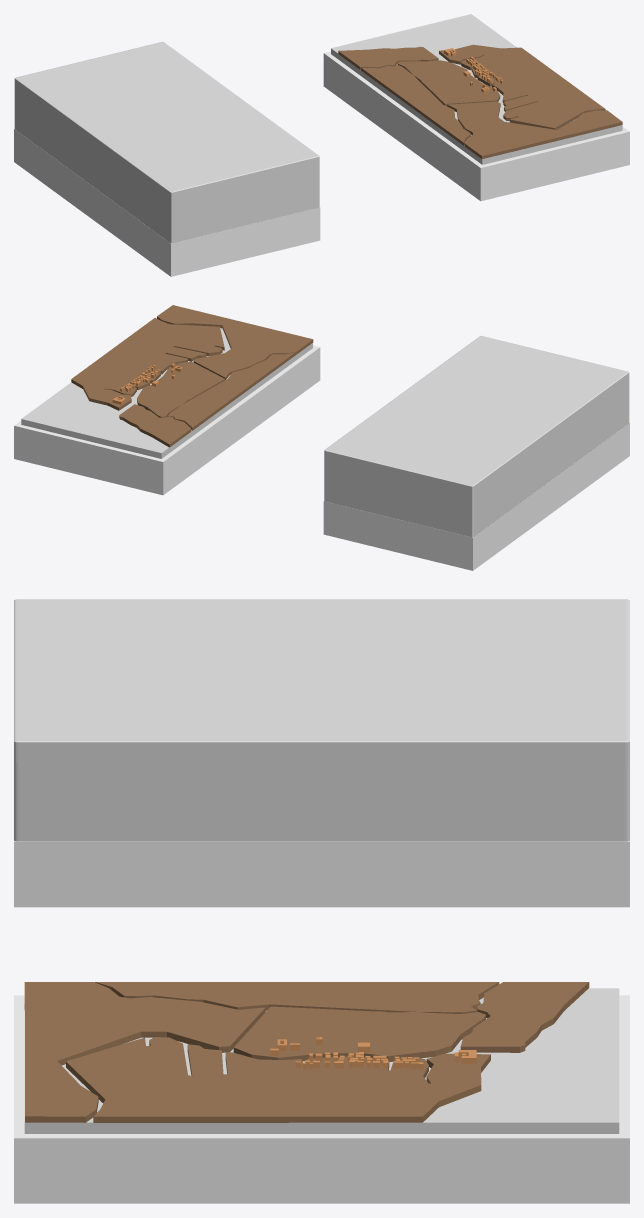
File: Map.Batavia.fbx
3 renders of one model, top to bottom at view 1: azimuth 30°, elevation 25°; view 2: azimuth 150°, elevation 25°; view 3: azimuth 270°, elevation 25°, orthographic. The views are drawn at different scales.
Parts seen in each view (by area): view 1: kaca.001, meja2.001, meja1.001, Plane.425, basebiru2.001, Plane.429, Plane.428, Plane.426, Plane.427; view 2: kaca.001, meja2.001, meja1.001, Plane.425, basebiru2.001, Plane.429, Plane.428, Plane.426, Plane.427; view 3: kaca.001, meja2.001, meja1.001, Plane.425, basebiru2.001, Plane.429, Plane.426, Plane.428, Plane.427, Plane.435.
Boxes of the visible parts, x1=… form: kaca.001: x1=14, y1=41, x2=319, y2=243; meja2.001: x1=323, y1=51, x2=629, y2=201; meja1.001: x1=14, y1=128, x2=320, y2=276; Plane.425: x1=439, y1=44, x2=605, y2=129; basebiru2.001: x1=331, y1=14, x2=622, y2=164; Plane.429: x1=447, y1=101, x2=622, y2=159; Plane.428: x1=361, y1=64, x2=471, y2=145; Plane.426: x1=398, y1=60, x2=500, y2=106; Plane.427: x1=338, y1=46, x2=438, y2=69; kaca.001: x1=324, y1=335, x2=629, y2=537; meja2.001: x1=14, y1=345, x2=320, y2=495; meja1.001: x1=323, y1=422, x2=629, y2=570; Plane.425: x1=71, y1=318, x2=224, y2=410; basebiru2.001: x1=21, y1=328, x2=312, y2=458; Plane.429: x1=157, y1=305, x2=313, y2=380; Plane.428: x1=168, y1=352, x2=295, y2=430; Plane.426: x1=137, y1=361, x2=224, y2=417; Plane.427: x1=119, y1=404, x2=191, y2=447; kaca.001: x1=14, y1=599, x2=629, y2=841; meja2.001: x1=14, y1=995, x2=629, y2=1203; meja1.001: x1=14, y1=841, x2=629, y2=907; Plane.425: x1=66, y1=1037, x2=490, y2=1122; basebiru2.001: x1=24, y1=988, x2=619, y2=1133; Plane.429: x1=24, y1=982, x2=265, y2=1122; Plane.426: x1=233, y1=1006, x2=485, y2=1061; Plane.428: x1=95, y1=982, x2=499, y2=1013; Plane.427: x1=460, y1=982, x2=589, y2=1052; Plane.435: x1=295, y1=1052, x2=423, y2=1069.
Size of the model in its own units: 1539 by 291 by 912.
